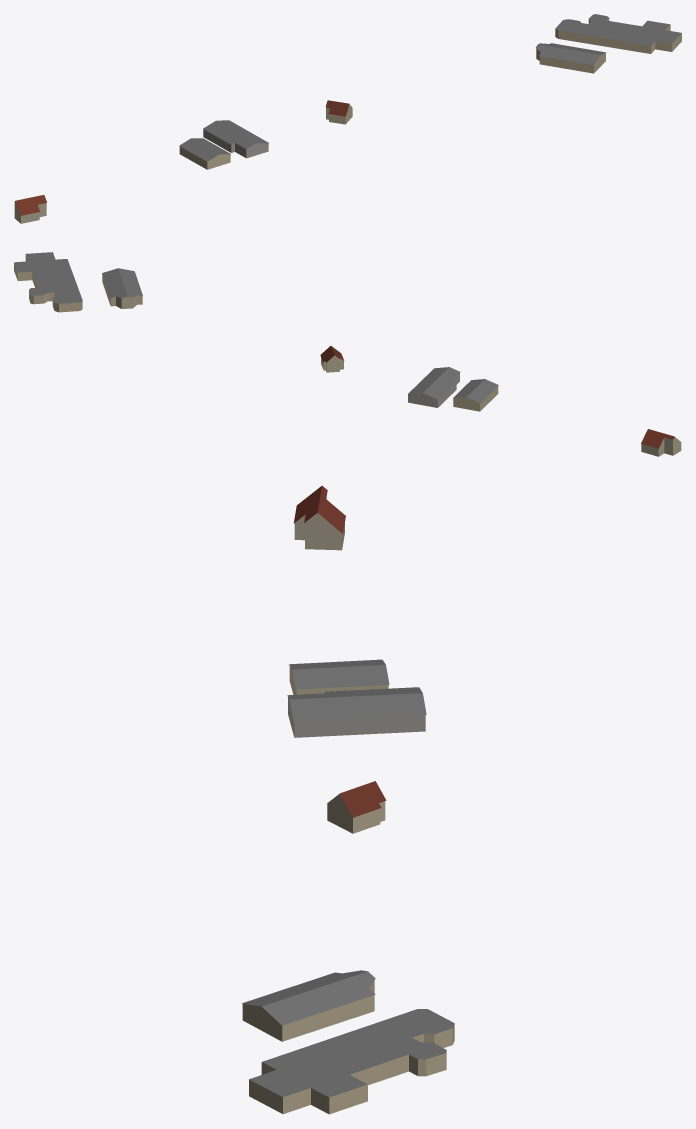
The picture shows the model from 3 angles, top to bottom: view 1: azimuth 30°, elevation 25°; view 2: azimuth 150°, elevation 25°; view 3: azimuth 270°, elevation 25°; orthographic projection. The views are drawn at different scales.
Parts seen in each view (by area): view 1: buildings; view 2: buildings; view 3: buildings.
Part boxes in pixels (x1,y1,x2,y2): buildings: (14,14,681,223); buildings: (14,252,681,456); buildings: (241,485,454,1114).
Bounding box in the file's own units: 487 × 25.67 × 68.38.
